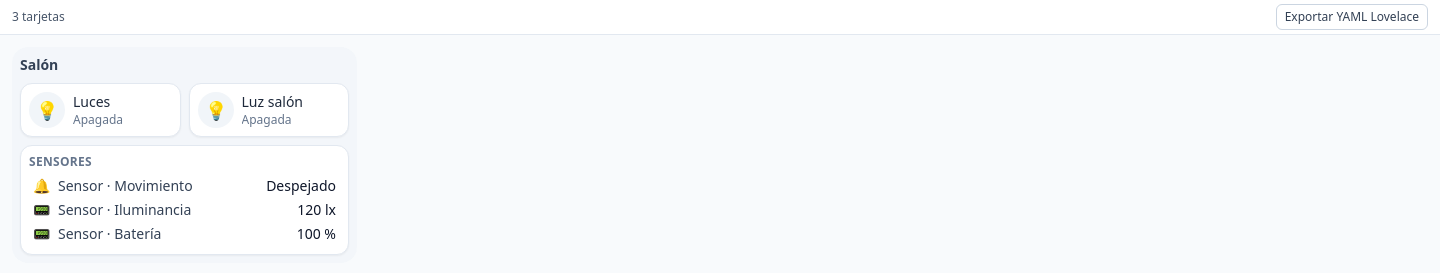
Test case: DashboardView › pinta las tarjetas por sala y la tile alterna la luz
Check: the heading "Salón" is shown, box [20,55,58,74]
Click the button named "Encender Luz salón" at (216, 110), box [198,92,234,128]
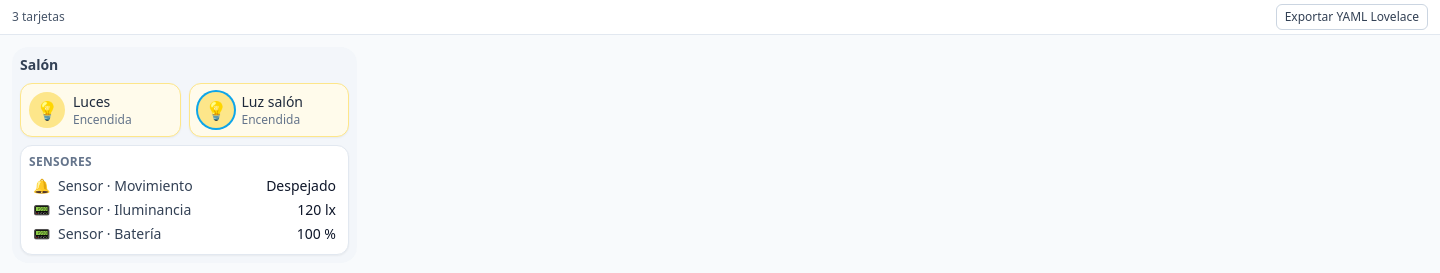
Check: the button named "Apagar Luz salón" is shown, box [198,92,234,128]
Check: the text with test id "tile-state-light.grupo_luces" reads "Encendida", box [73,111,132,128]
